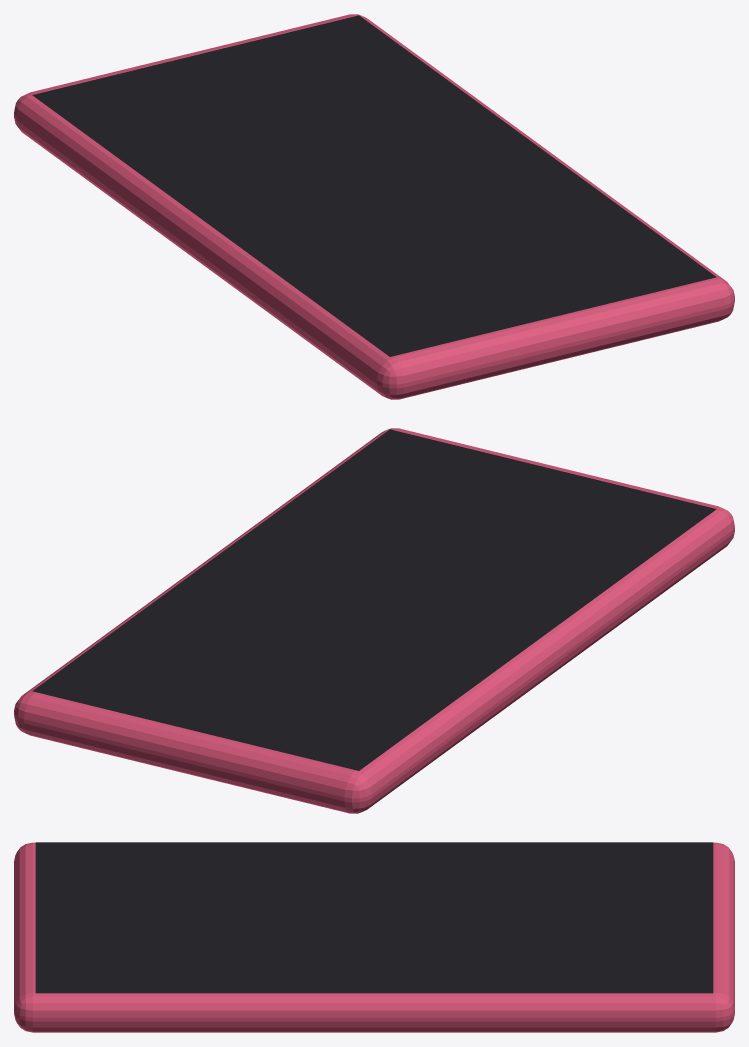
File: Phone_240.glb
3 renders of one model, top to bottom at view 1: azimuth 30°, elevation 25°; view 2: azimuth 150°, elevation 25°; view 3: azimuth 270°, elevation 25°, orthographic. The views are drawn at different scales.
Visible parts, largest first — view 1: Phone_Screen, Phone_Body; view 2: Phone_Screen, Phone_Body; view 3: Phone_Screen, Phone_Body.
Part boxes in pixels (x1,y1,x2,y2): Phone_Screen: [32, 15, 716, 356]; Phone_Body: [14, 14, 734, 399]; Phone_Screen: [32, 429, 716, 770]; Phone_Body: [14, 428, 734, 813]; Phone_Screen: [35, 842, 713, 993]; Phone_Body: [14, 842, 734, 1032].
Size of the model in its own units: 0.076 by 0.0084 by 0.141.
